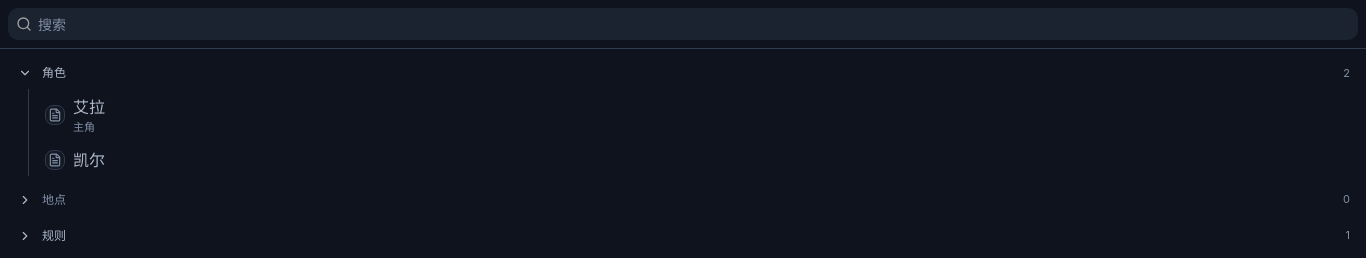
Scenario: ResourceDirectory › filters items by search and expands collapsed sections while searching
This screenshot has width=1366, height=258.
Type "法则" into the field labelled "搜索" at (695, 24), box x1=32 y1=8 x2=1358 y2=40
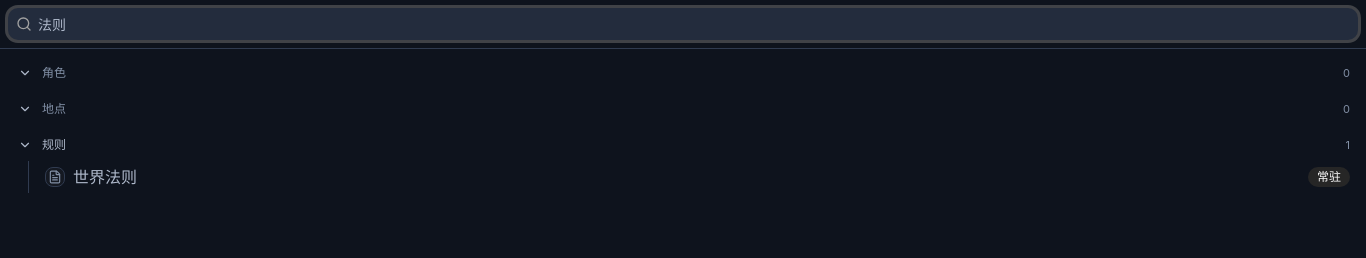
Check: the text "世界法则" is shown, box x1=73 y1=167 x2=137 y2=187
Check: the button "艾拉" is gone
